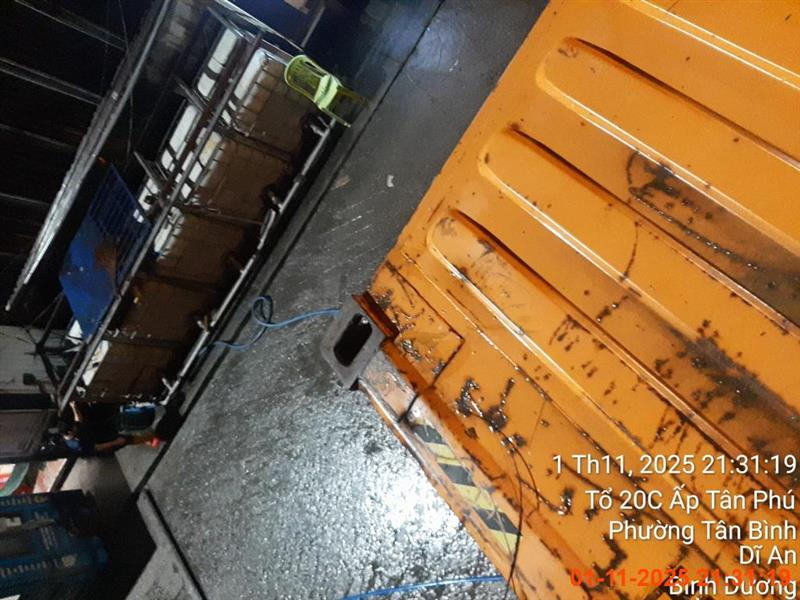hole: (316, 1, 797, 599)
